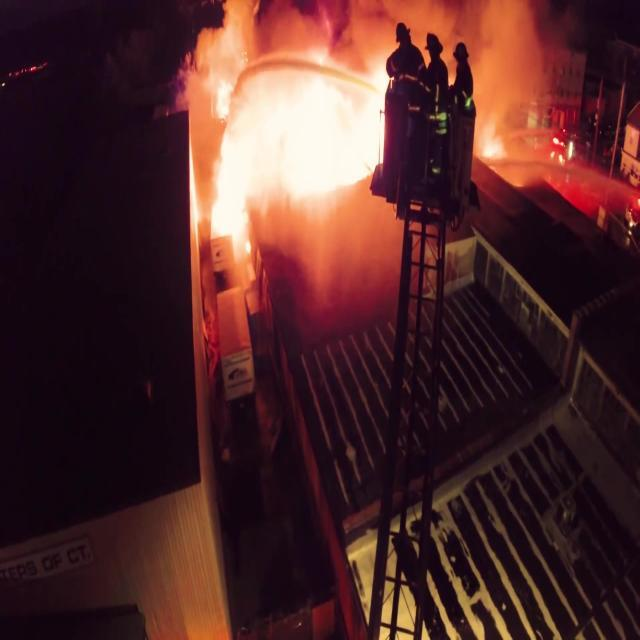Fire: (206, 81, 389, 238), (473, 123, 506, 163)
Smoke: (171, 0, 540, 82)
